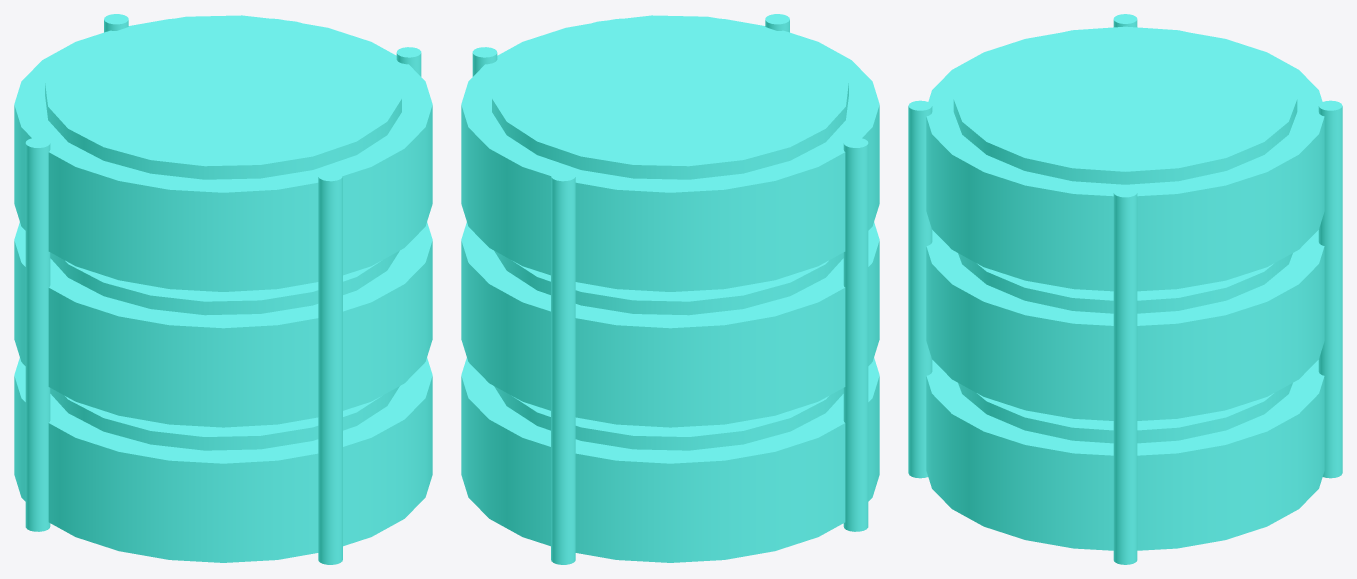
The model's file is database.glb.
3 views of the same model, side by side, from view 1: azimuth 30°, elevation 25°; view 2: azimuth 150°, elevation 25°; view 3: azimuth 270°, elevation 25° (orthographic). The views are drawn at different scales.
Visible parts, largest first — view 1: CyberDomeAsset; view 2: CyberDomeAsset; view 3: CyberDomeAsset.
Boxes of the visible parts, bbox=[...] form: CyberDomeAsset: bbox=[14, 14, 432, 564]; CyberDomeAsset: bbox=[461, 14, 879, 564]; CyberDomeAsset: bbox=[908, 14, 1342, 564].
Bounding box in the file's own units: 0.91 × 0.865 × 0.91.
